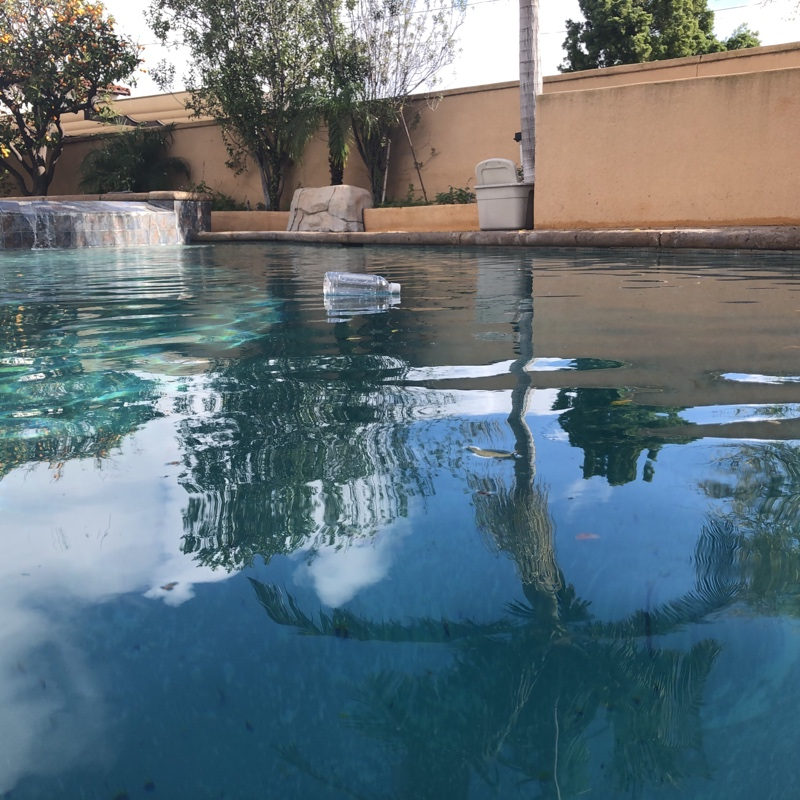Plastic Bottle: (321, 268, 403, 302)
